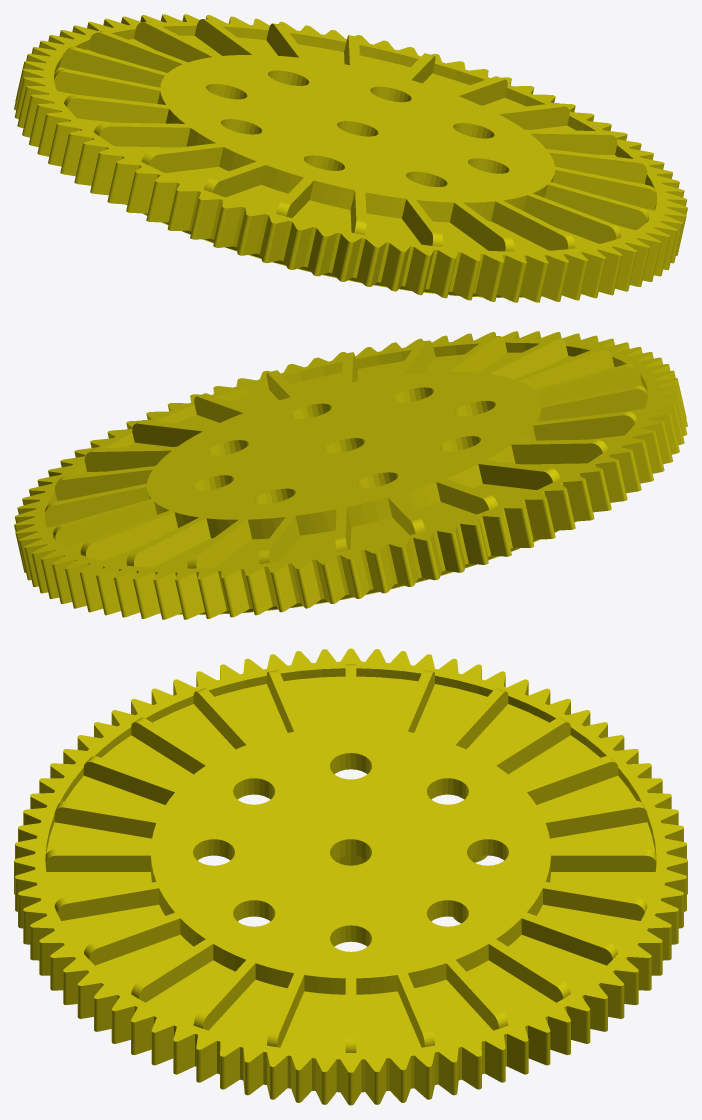
File: TrucBearing_Duoi.glb
3 renders of one model, top to bottom at view 1: azimuth 30°, elevation 25°; view 2: azimuth 150°, elevation 25°; view 3: azimuth 270°, elevation 25°, orthographic.
Parts seen in each view (by area): view 1: defaultobject; view 2: defaultobject; view 3: defaultobject.
Part boxes in pixels (x1,y1,x2,y2): defaultobject: [14, 14, 687, 302]; defaultobject: [14, 331, 687, 619]; defaultobject: [14, 648, 687, 1105].
Size of the model in its own units: 184 by 56.76 by 187.
